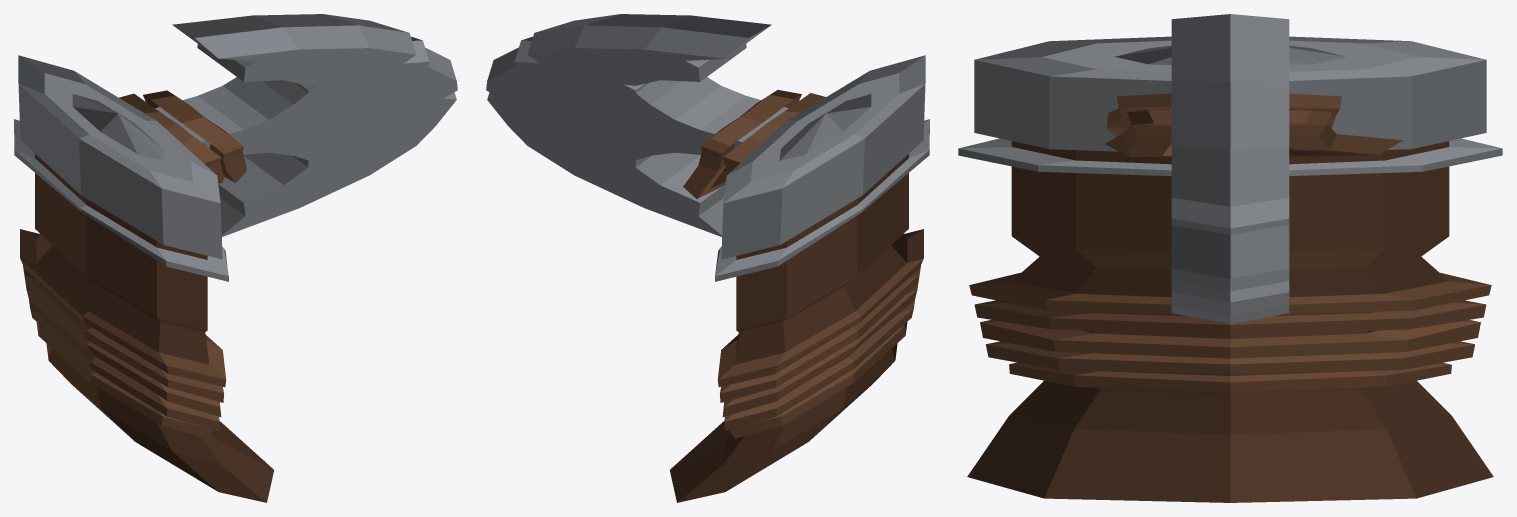
The model's file is gild_axe.glb.
3 views of the same model, side by side, from view 1: azimuth 30°, elevation 25°; view 2: azimuth 150°, elevation 25°; view 3: azimuth 270°, elevation 25° (orthographic). The views are drawn at different scales.
Size of the model in its own units: 2 by 2 by 2.
